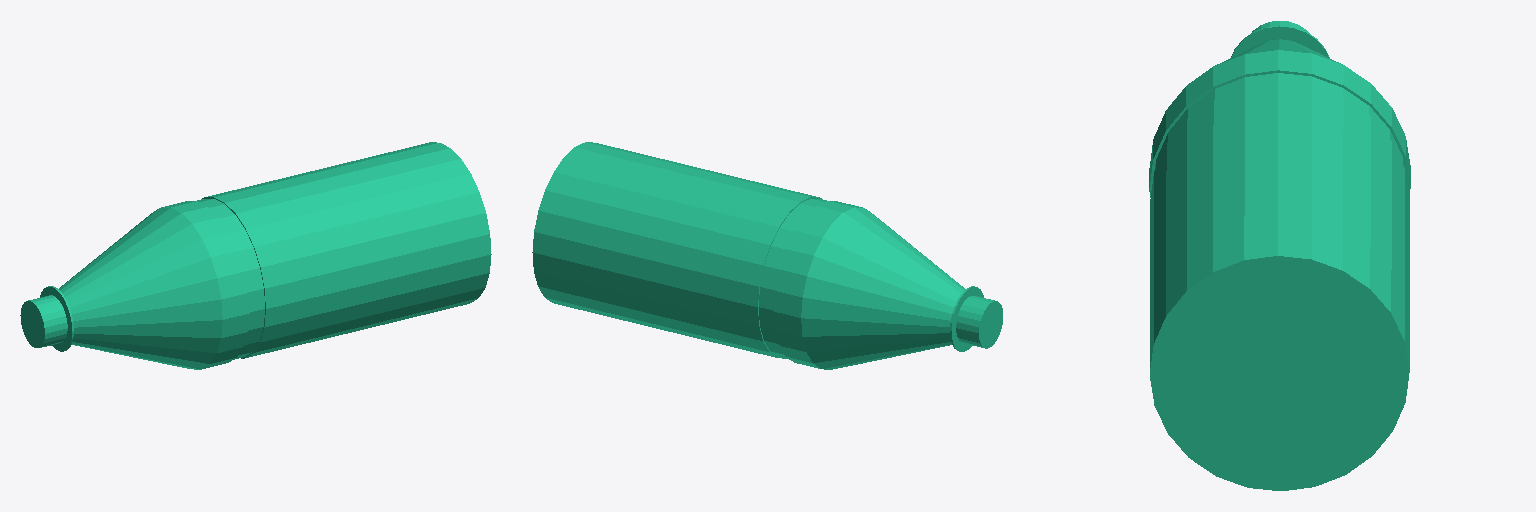
URDF robot description (model.urdf):
<robot name="model.urdf">
  <link name="baseLink">
    <contact>
      <friction_anchor/>
      <lateral_friction value="1.5"/>
      <!-- <spinning_friction value="0.001"/>
      <rolling_friction value="0.001"/> -->
      <spinning_friction value="0.0"/>
      <rolling_friction value="0.0"/>
      <contact_cfm value="0.0"/>
      <contact_erp value="1.0"/>
    </contact>
    <inertial>
       <origin rpy="0 0 0.1" xyz="0.005 0.005 -0.015"/>
       <!-- <mass value=".603"/> -->
       <mass value="2.0"/>
       <inertia ixx="1e-3" ixy="0" ixz="0" iyy="1e-3" iyz="0" izz="1e-3"/>
    </inertial>
    <visual>
      <origin rpy="0 0 1.57" xyz="0 0 0"/>
      <geometry>
        <mesh filename="model_normalized.obj" scale="1 1 1"/>
      </geometry>
      <material name="green">
        <color rgba="0.22 0.81 0.64 1."/>
      </material>
    </visual>
    <collision>
      <origin rpy="0 0 1.57" xyz="0 0 0"/>
      <geometry>
    	 	<mesh filename="model_normalized_vhacd.obj" scale="1 1 1"/>
      </geometry>
    </collision>
  </link>
</robot>

--- Facts derived from the render (not from the file) ---
Views: 3 orthographic renders of the robot side by side, from view 1: azimuth 30°, elevation 25°; view 2: azimuth 150°, elevation 25°; view 3: azimuth 270°, elevation 25°.
Robot: model.urdf — 1 links, 0 joints (none); root link baseLink; default pose: all joints at 0.
Links seen in each view (by area): view 1: baseLink; view 2: baseLink; view 3: baseLink.
Link boxes in pixels (x1,y1,x2,y2): baseLink: [20, 142, 491, 369]; baseLink: [532, 142, 1002, 369]; baseLink: [1149, 21, 1410, 490].
Size in the robot's own frame: 0.8979 by 0.3115 by 0.3115 metres.
Meshes: 1 distinct files referenced, 1 mesh visuals loaded (1 OBJ).